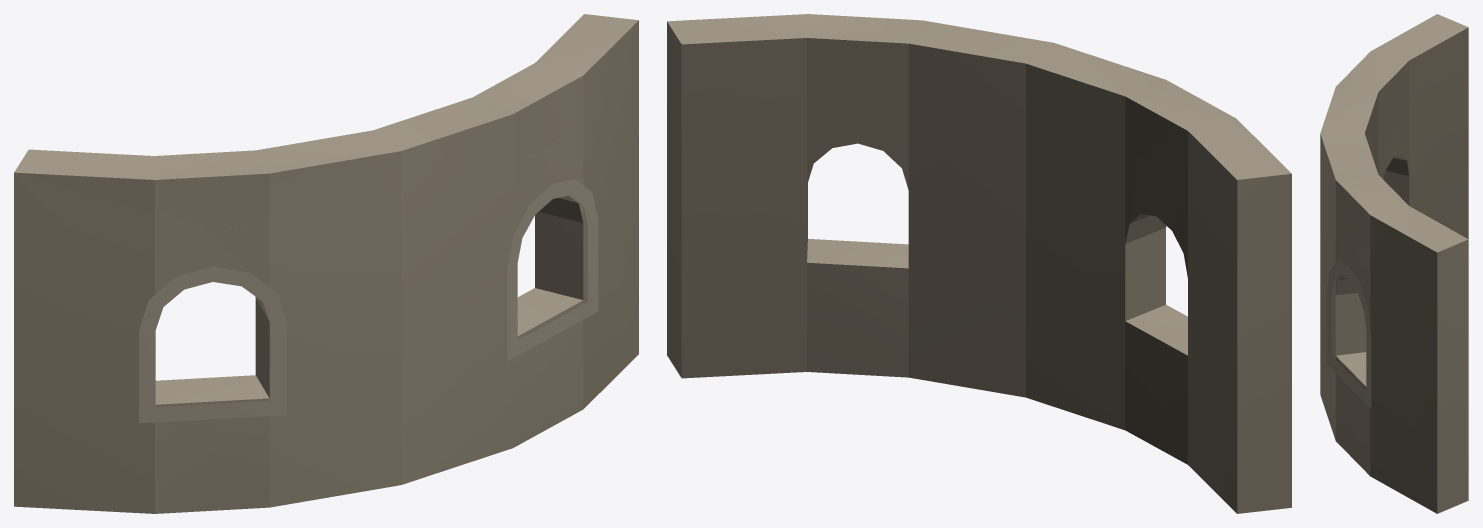
File: dome.drum_window.stone.glb
3 renders of one model, left to right at view 1: azimuth 30°, elevation 25°; view 2: azimuth 150°, elevation 25°; view 3: azimuth 270°, elevation 25°, orthographic. The views are drawn at different scales.
Parts seen in each view (by area): view 1: dome_drum_window_stone; view 2: dome_drum_window_stone; view 3: dome_drum_window_stone.
Boxes of the visible parts, box(x1,y1,x2,y2) form: dome_drum_window_stone: box(14, 14, 638, 513); dome_drum_window_stone: box(667, 14, 1291, 513); dome_drum_window_stone: box(1320, 14, 1468, 513).
Size of what is drawn, in the model's own units: 5.09 by 2.6 by 1.34.
